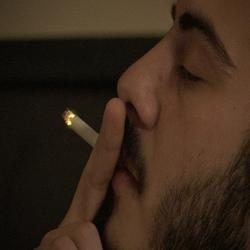smoking: (38, 98, 130, 250)
